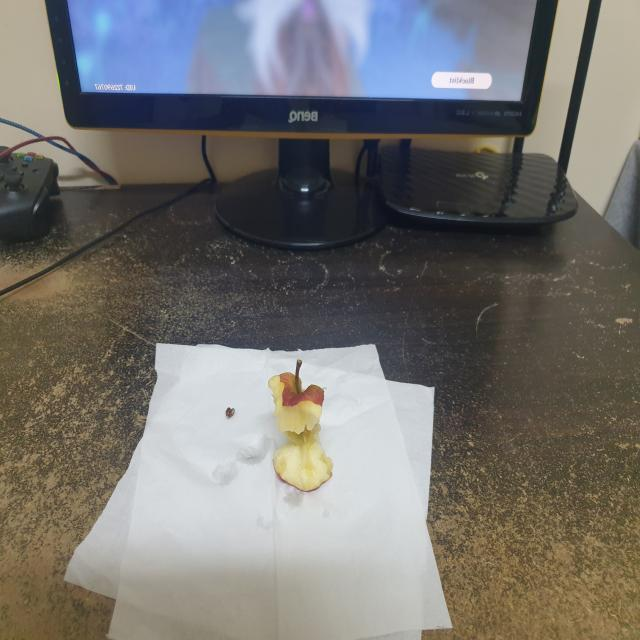apple: (258, 350, 348, 510)
